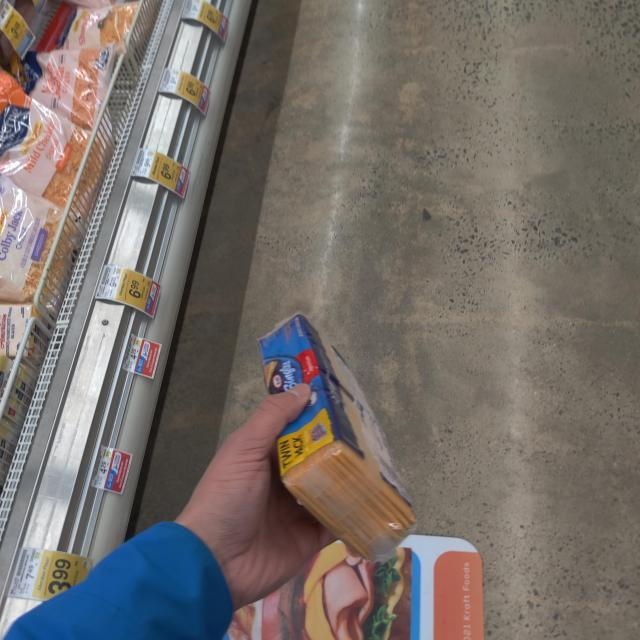Cheese: (261, 301, 439, 560)
